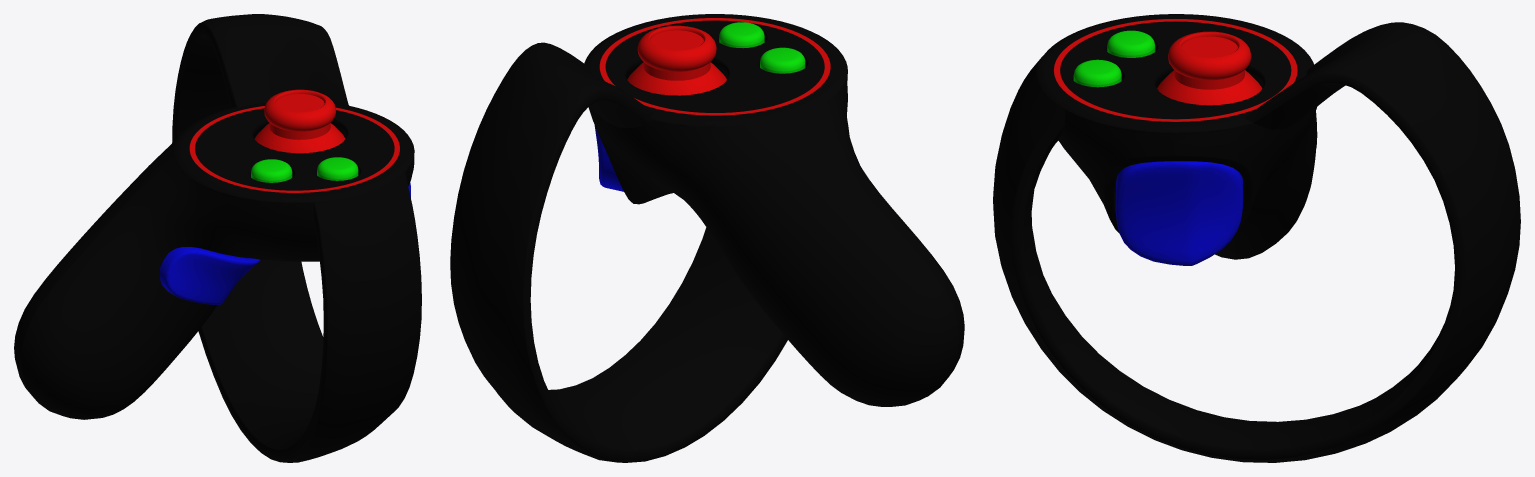
The model's file is Touch_left.FBX.
3 renders of one model, left to right at view 1: azimuth 30°, elevation 25°; view 2: azimuth 150°, elevation 25°; view 3: azimuth 270°, elevation 25°, orthographic. The views are drawn at different scales.
Visible parts, largest first — view 1: Base_low; view 2: Base_low; view 3: Base_low.
Part boxes in pixels (x1,y1,x2,y2): Base_low: (14,14,421,462); Base_low: (450,14,964,462); Base_low: (993,14,1520,462).
Bounding box in the file's own units: 10.1 × 9.88 × 10.94.
